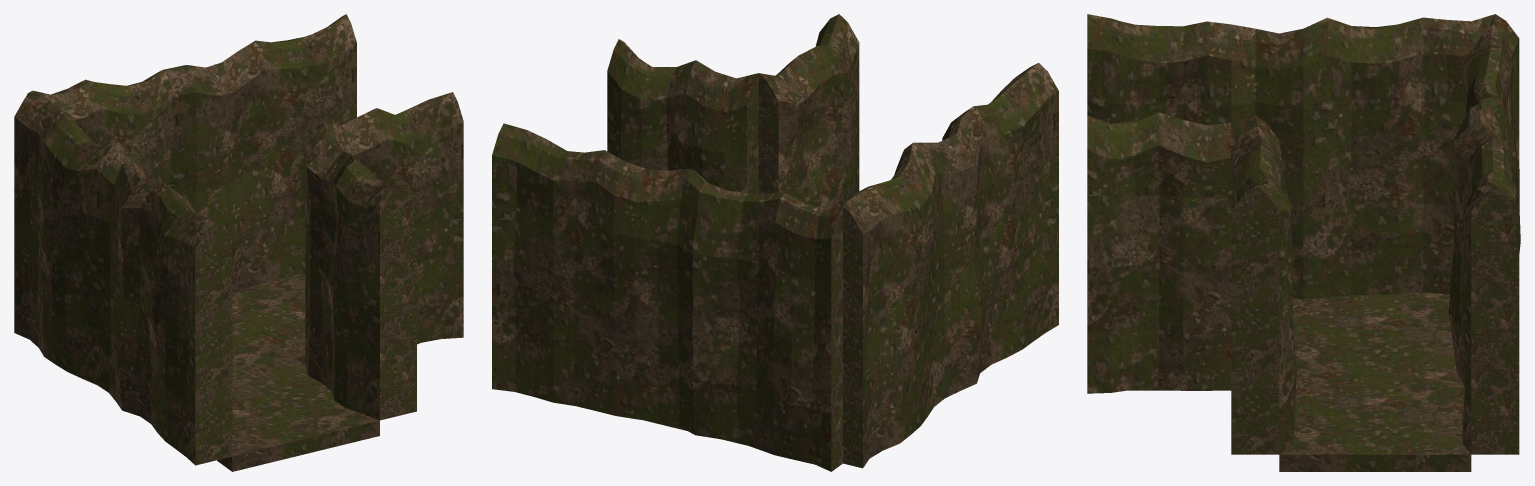
File: cave_corner_01_limestone.glb
3 renders of one model, left to right at view 1: azimuth 30°, elevation 25°; view 2: azimuth 150°, elevation 25°; view 3: azimuth 270°, elevation 25°, orthographic. The views are drawn at different scales.
Visible parts, largest first — view 1: cave_corner_01_limestone; view 2: cave_corner_01_limestone; view 3: cave_corner_01_limestone.
Boxes of the visible parts, box(x1,y1,x2,y2) form: cave_corner_01_limestone: box(14, 14, 463, 471); cave_corner_01_limestone: box(492, 14, 1058, 471); cave_corner_01_limestone: box(1087, 14, 1520, 471).
Size of the model in its own units: 4.58 by 3.3 by 4.51.
Materials: 2 (2 with a texture image).
